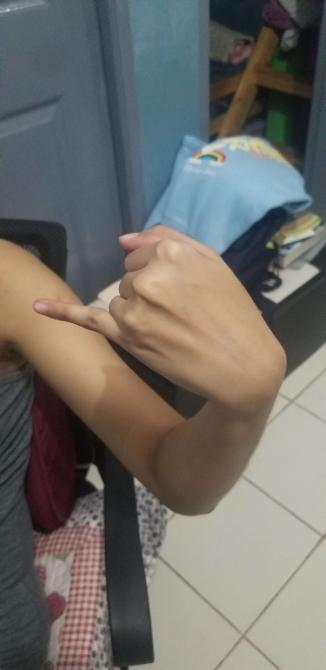j: (29, 229, 284, 402)
